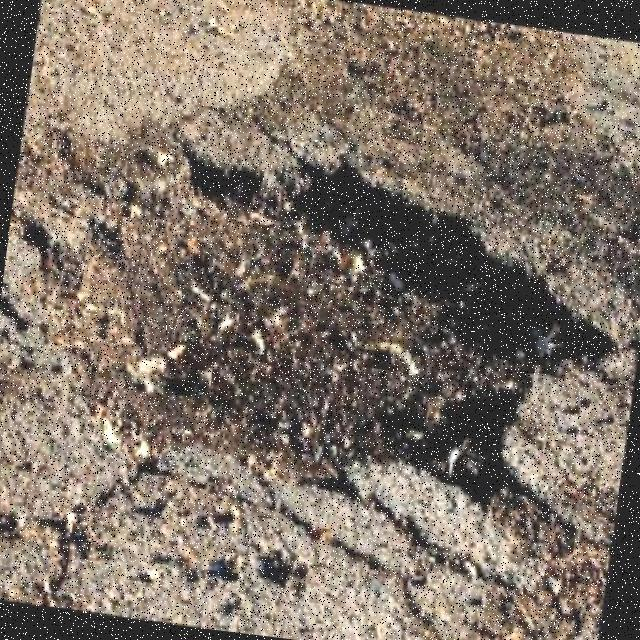Pothole: (62, 151, 613, 555)
